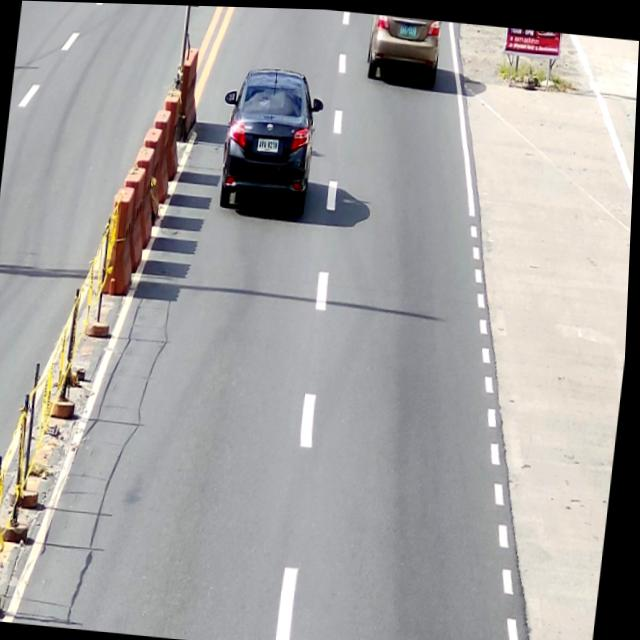Car: (213, 61, 328, 215), (364, 11, 443, 85)
License-Plate: (255, 133, 281, 153), (398, 20, 418, 36)
